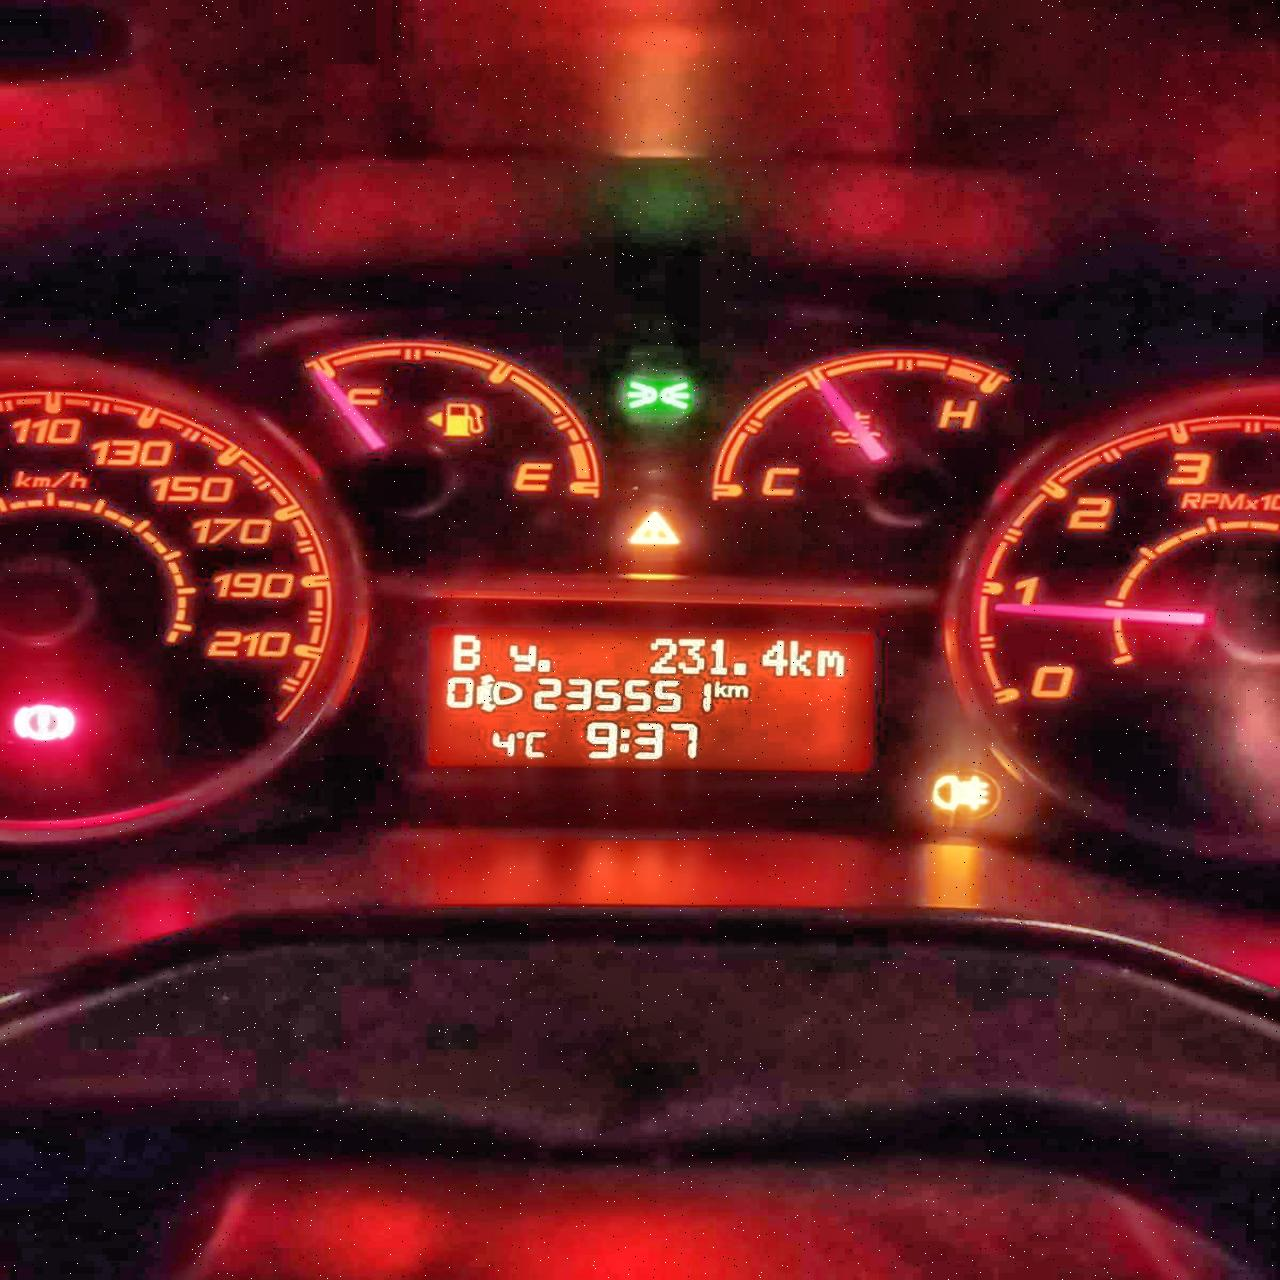-: (730, 661, 747, 676), (536, 659, 551, 673)
0: (444, 675, 475, 709)
1: (707, 638, 729, 675), (701, 681, 713, 713)
2: (647, 636, 676, 674), (531, 675, 561, 710)
3: (632, 721, 665, 760), (676, 638, 706, 674), (564, 676, 591, 709)
4: (760, 639, 787, 676), (489, 730, 516, 757)
5: (622, 678, 652, 713), (653, 679, 681, 712), (594, 679, 621, 712)
7: (667, 721, 699, 760)
9: (584, 720, 618, 760)
X: (450, 632, 481, 670), (813, 648, 845, 678), (505, 642, 537, 672), (788, 639, 812, 675), (524, 730, 549, 758), (726, 683, 750, 699), (619, 727, 632, 753), (712, 680, 726, 697)
odometer: (417, 618, 879, 781)
